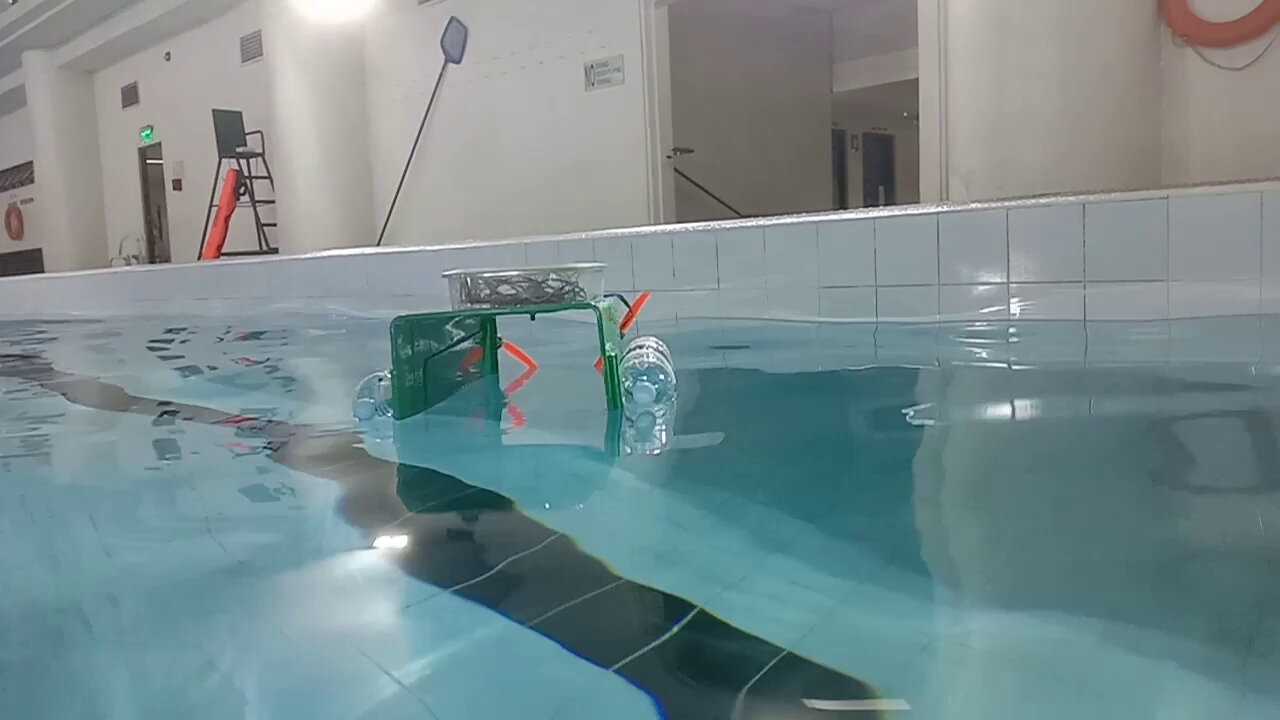drone: (352, 261, 677, 422)
